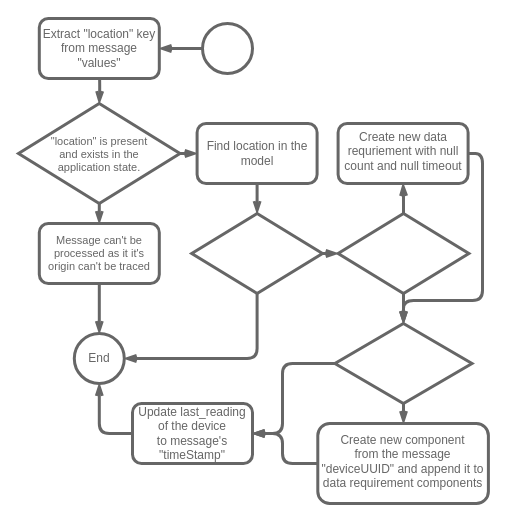
This 509x522 diagram has some shape labels left out. The box of each missing label's shape, as (x1, y1, x2, y2) in pixels:
Any data keys left to process?: (190, 212, 324, 294)
Is the "deviceUUID" registered in the componets?: (333, 322, 473, 404)
Is the key present in the data requirements?: (336, 212, 470, 294)
Start: (200, 22, 254, 74)
